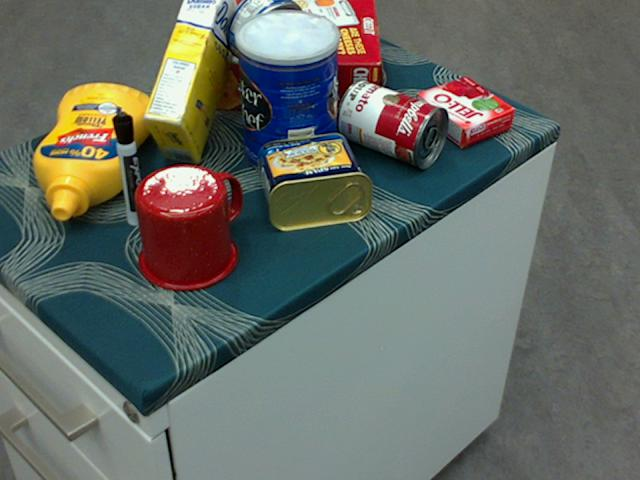cracker_box: (188, 0, 380, 110)
gelatin_box: (414, 77, 514, 146)
large_marker: (110, 111, 147, 224)
master_chef_can: (235, 9, 339, 178)
mug: (135, 163, 243, 290)
mustard_bottle: (33, 83, 152, 219)
potted_meat_can: (255, 130, 372, 232)
sugar_box: (143, 0, 242, 165)
tomato_soup_can: (336, 79, 449, 168)
tuna_fish_can: (226, 0, 306, 70)
